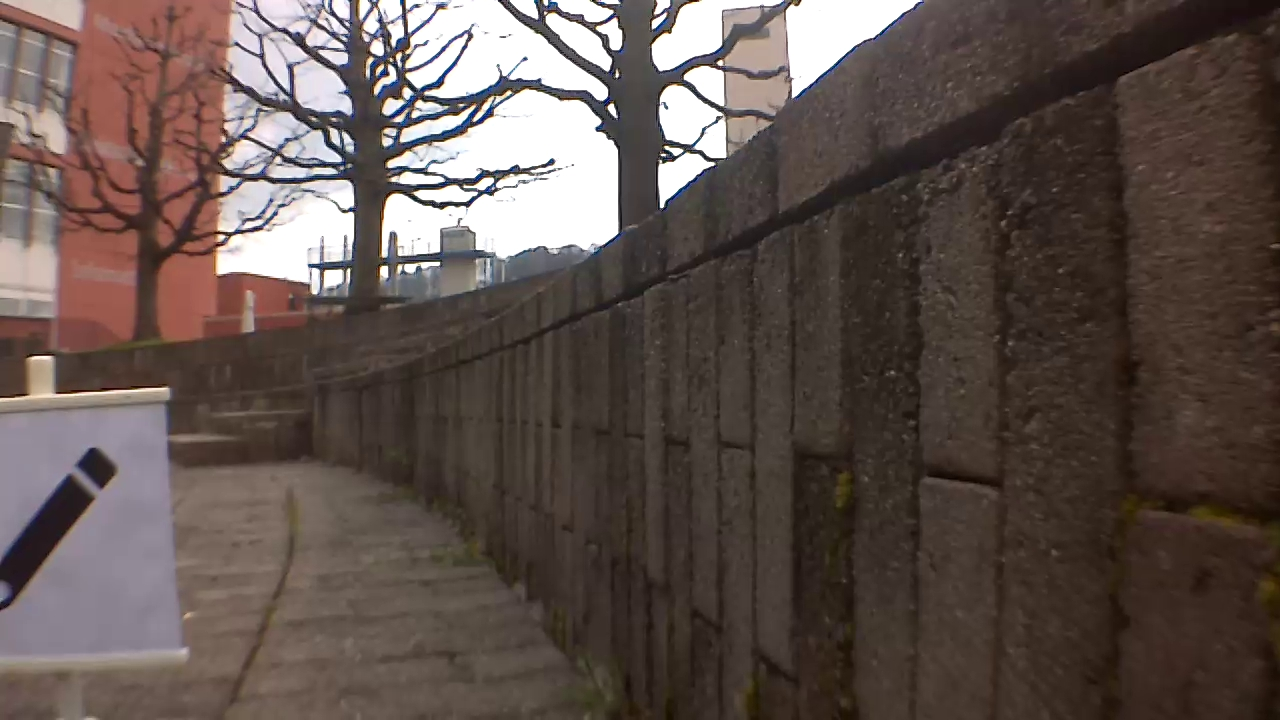pencil: (0, 446, 126, 646)
